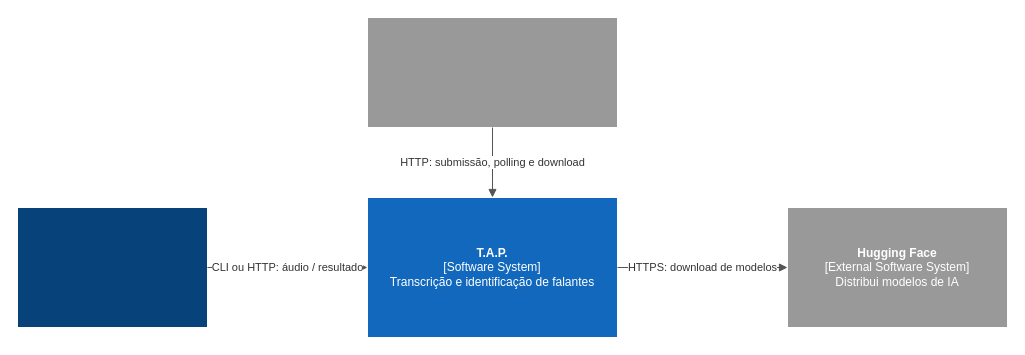
Image size: 1025x355. Some labels were removed from this diagram. Each missing label, with the centre of its shape:
Sistema integrador [External Software System] Consome a API HTTP: (492,72)
Usuário [Person] Envia áudio e recebe transcrição: (112,267)
